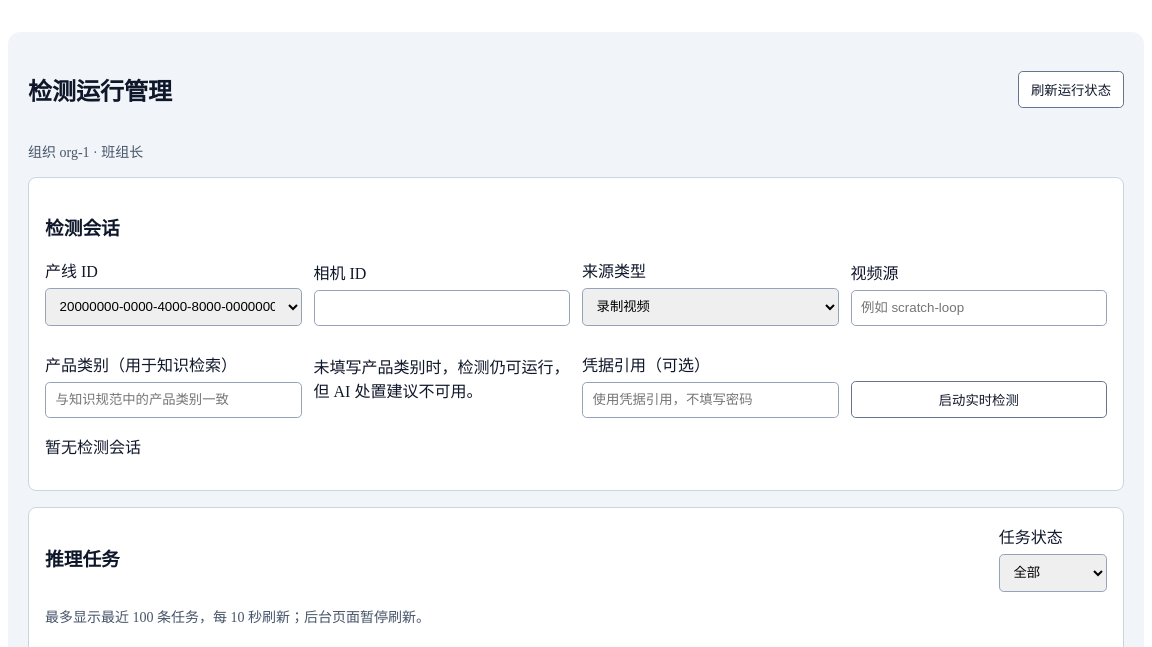
it: reuses the session idempotency key after a network failure and stops the created session
Expected: the button "启动实时检测" is shown, [850, 381, 1107, 418]
Type "30000000-0000-4000-8000-000000000001" into the field labelled "相机 ID" at (442, 308), box [314, 290, 570, 326]
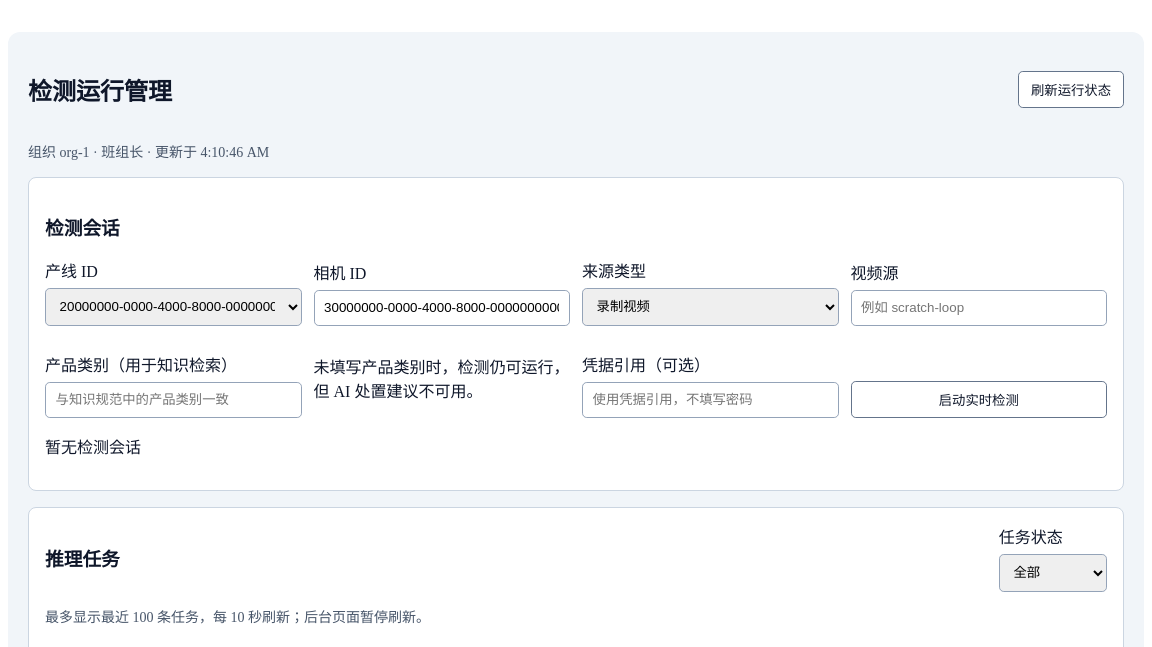
Type "scratch-loop" into the field labelled "视频源" at (979, 308), box [850, 290, 1107, 326]
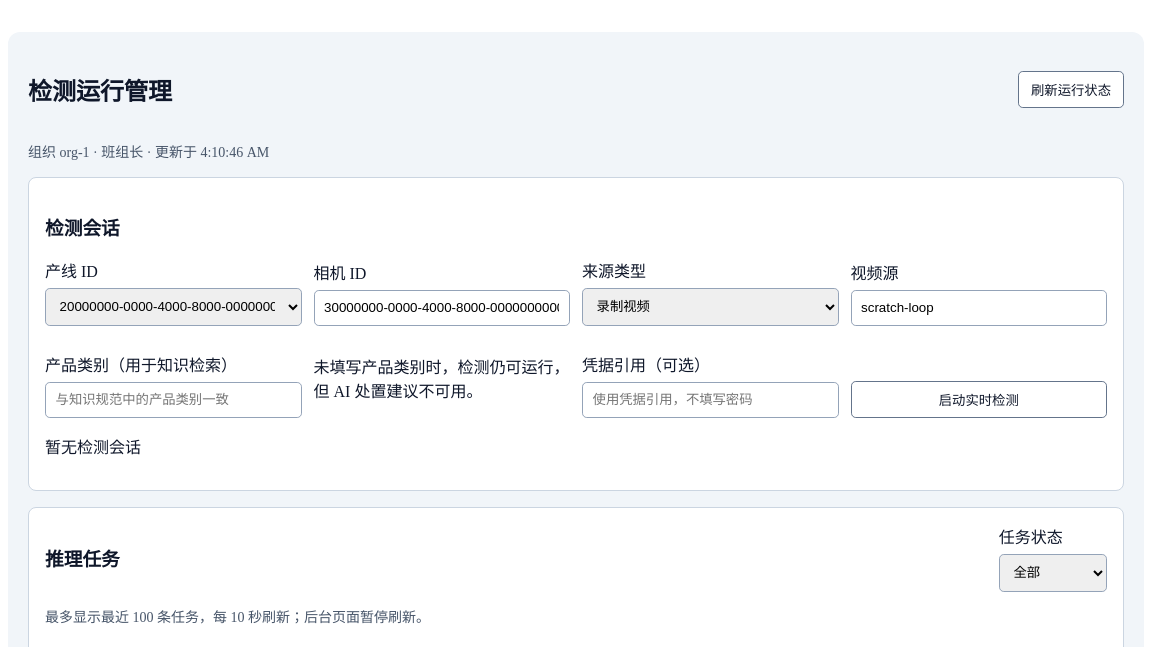
Type "外壳注塑件" into the field labelled "产品类别（用于知识检索）" at (173, 400), box [45, 382, 302, 418]
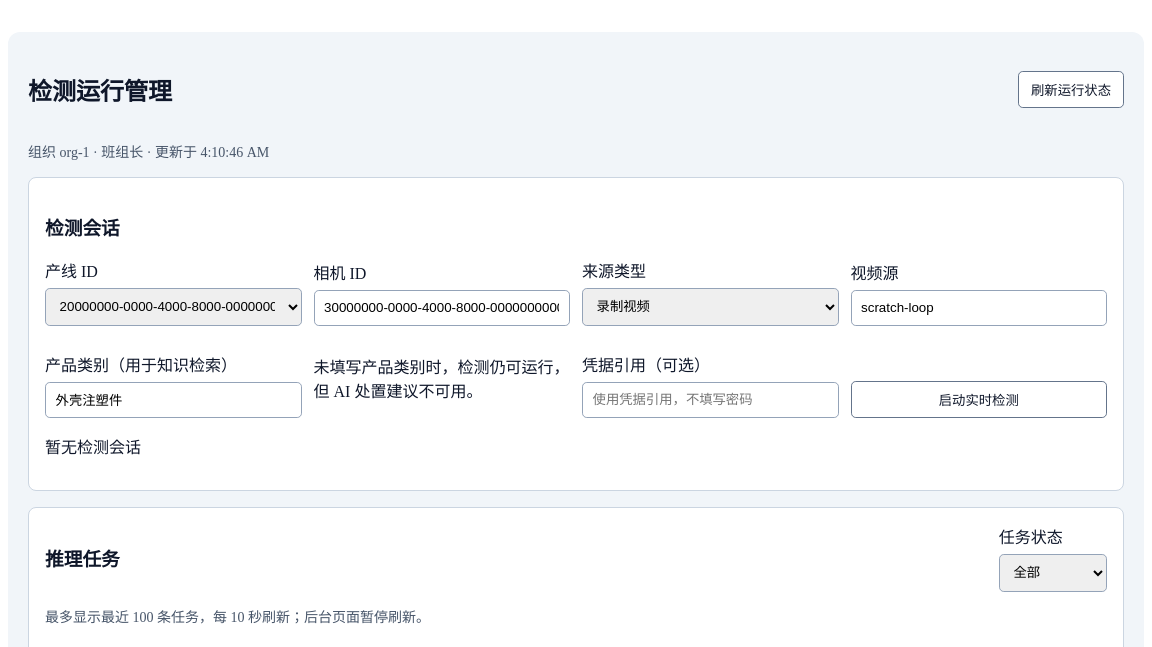
Click the button "启动实时检测" at (979, 400), box [850, 381, 1107, 418]
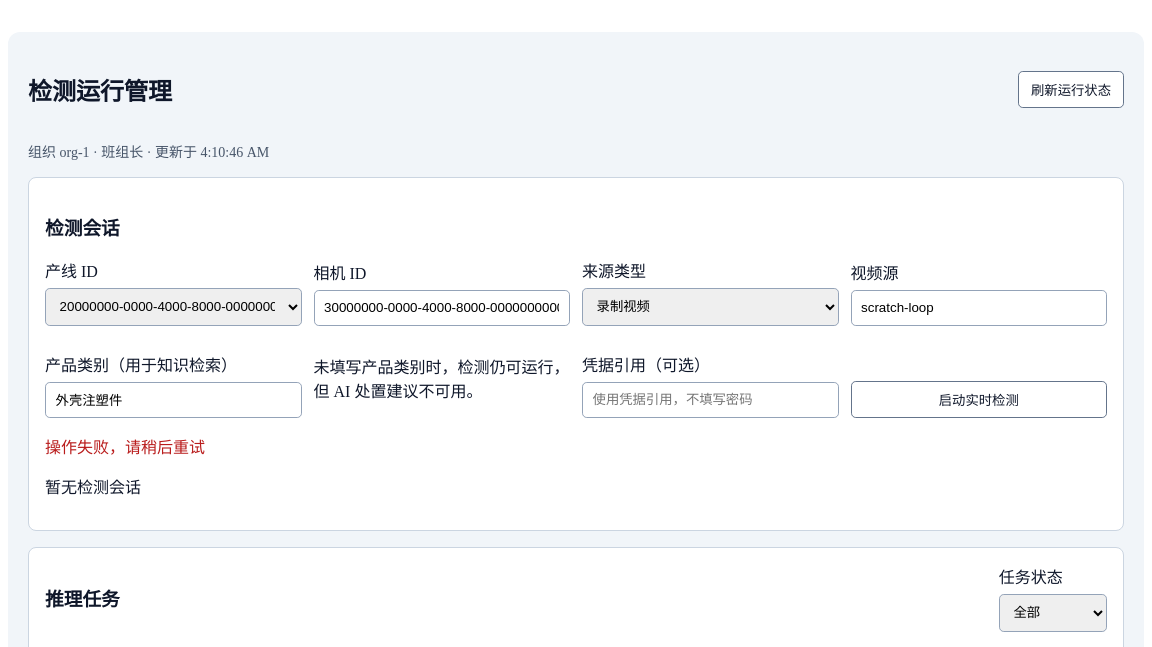
Expected: the text "操作失败，请稍后重试" is shown, [45, 439, 205, 456]
Click the button "启动实时检测" at (979, 400), box [850, 381, 1107, 418]
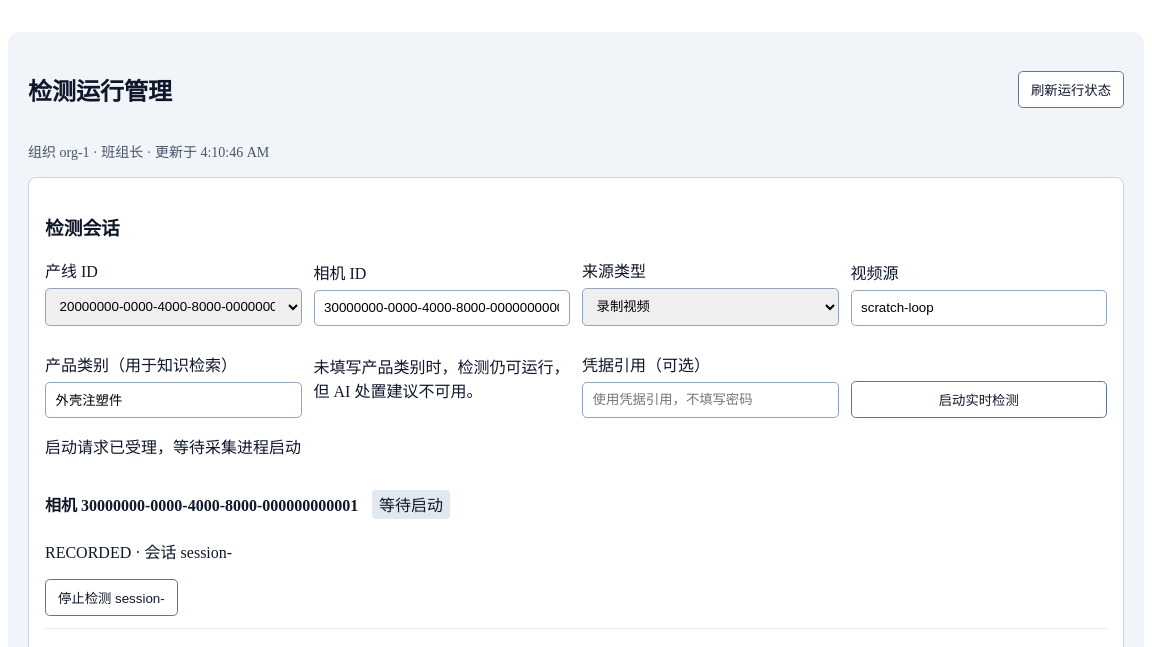
Click the button "停止检测 session-" at (111, 597), box [45, 579, 178, 616]
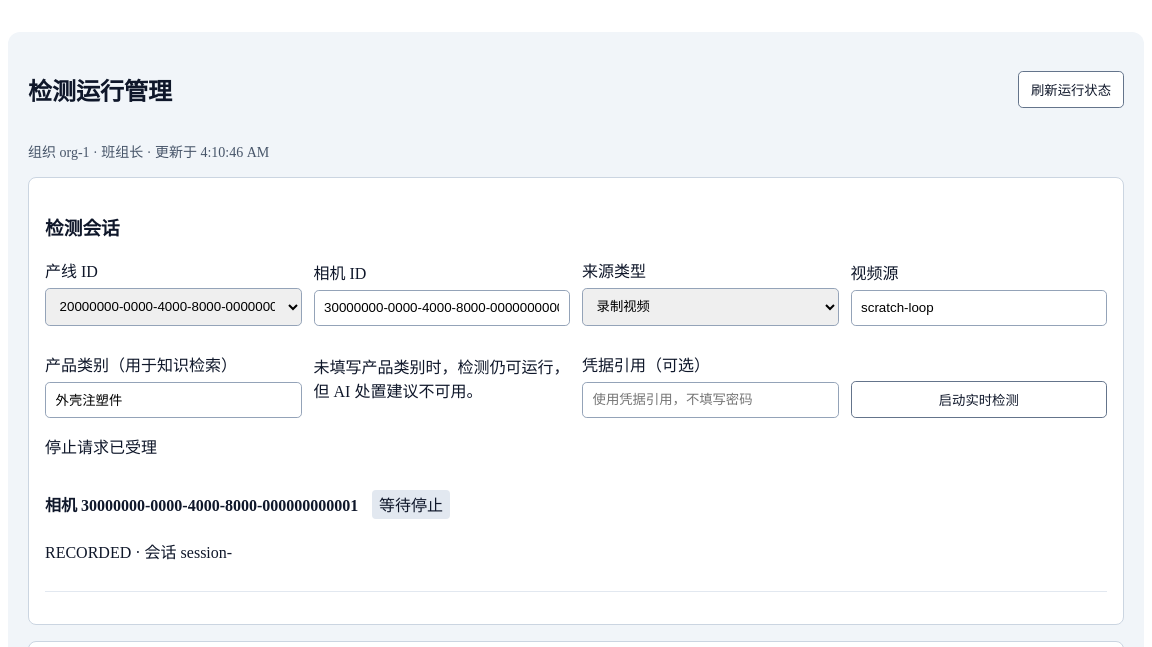
Expected: the text "等待停止" is shown, [372, 490, 450, 519]
